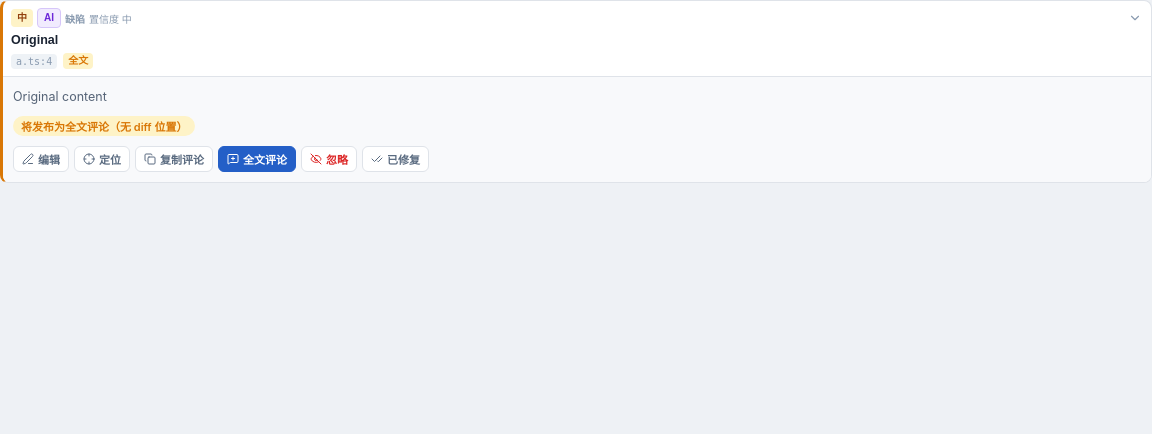
Test: form control autofill › disables autofill on every finding edit control
Click the button "编辑" at (41, 159), box 13,146 -> 69,172
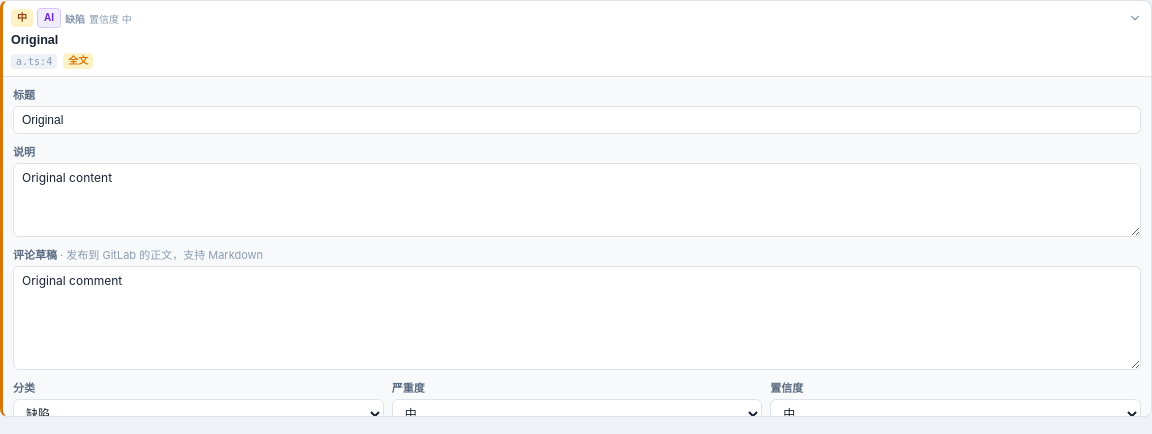
Result: the field labelled "标题" is shown at 13,106 -> 1141,134
